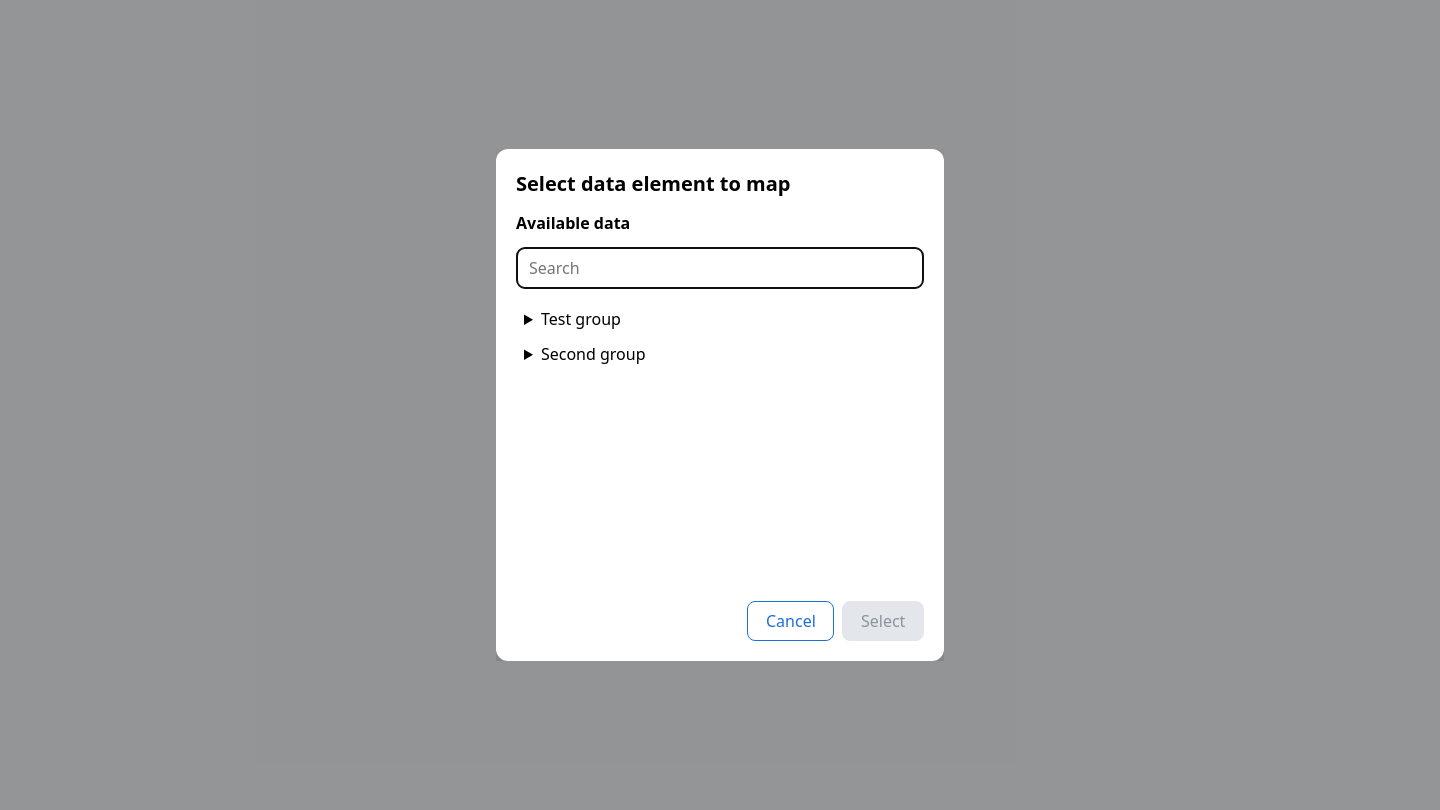
Test: DataElementModal › restores collapsed dataGroups when query is cleared
In the search field named "Search data elements": {"x": 720, "y": 268} [516, 247, 924, 289], type "second"
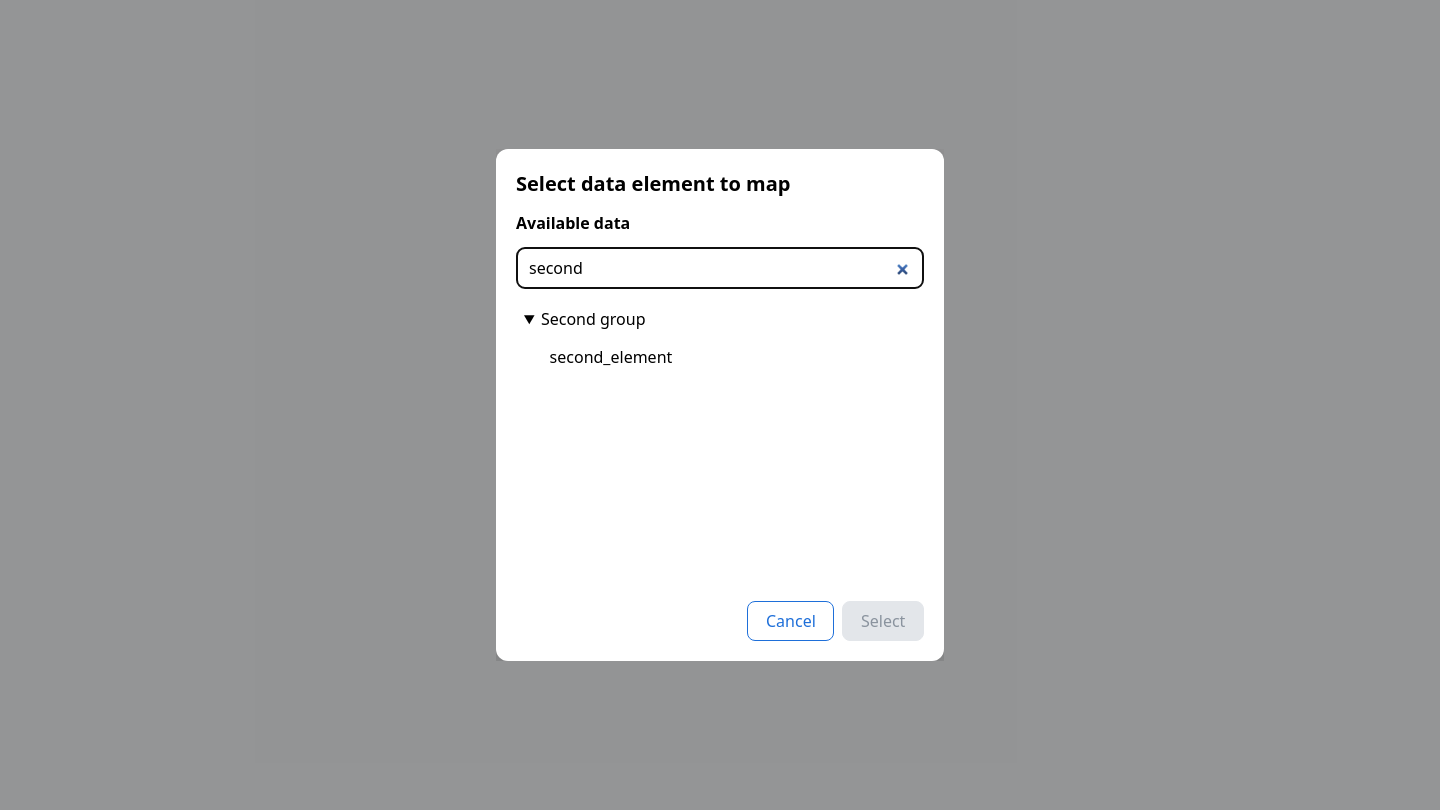
Clear the search field named "Search data elements": {"x": 720, "y": 268} [516, 247, 924, 289]
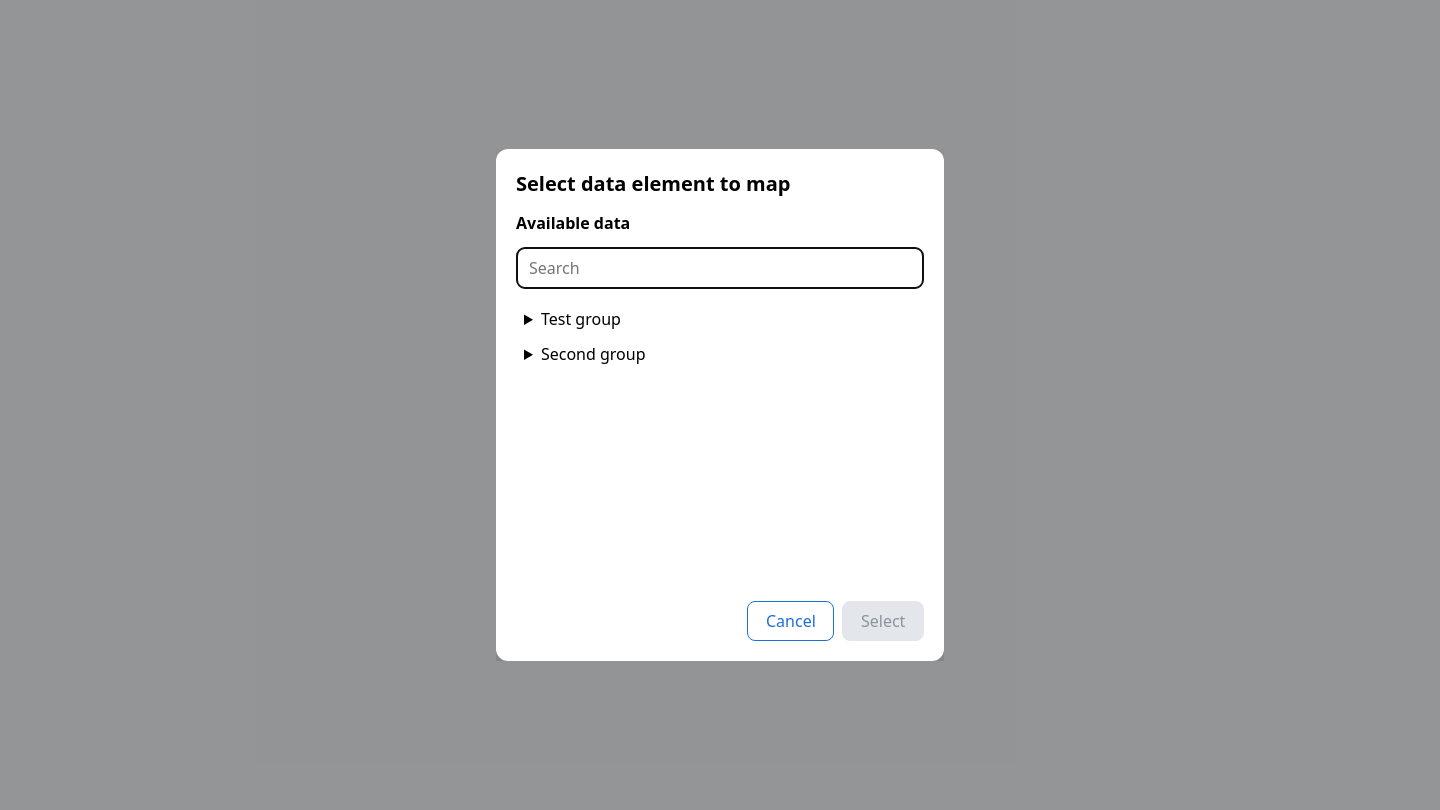
Expected: the heading "Test group" is shown, [541, 308, 621, 330]
Expected: the button "second_element" is gone
